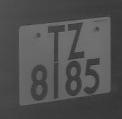1: (49, 57, 65, 103)
5: (82, 57, 103, 96)
8: (27, 61, 52, 105), (61, 59, 84, 98)
T: (46, 22, 67, 62)
Z: (65, 20, 87, 60)
